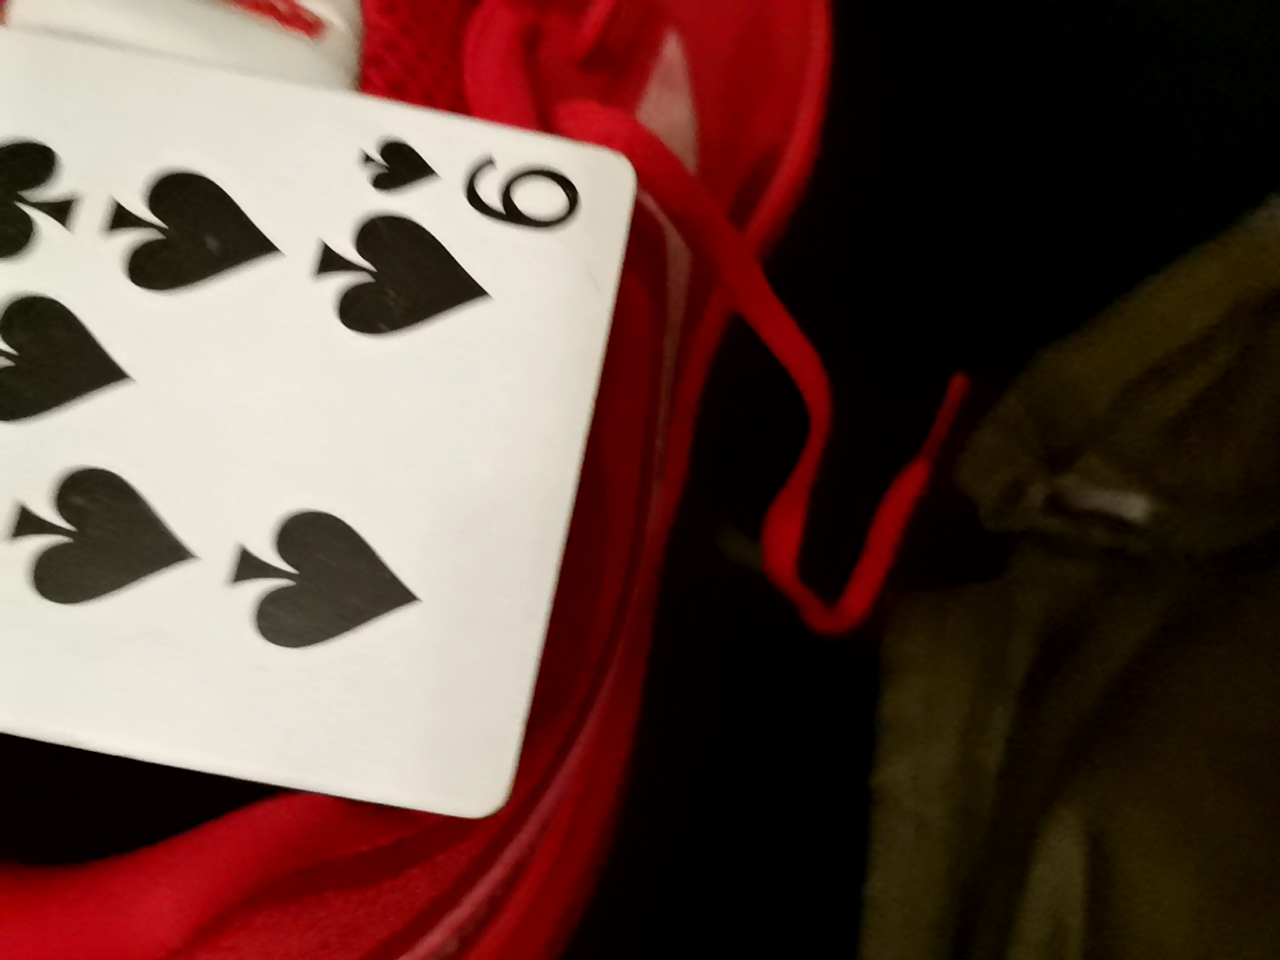ht 9: (10, 26, 713, 807)
